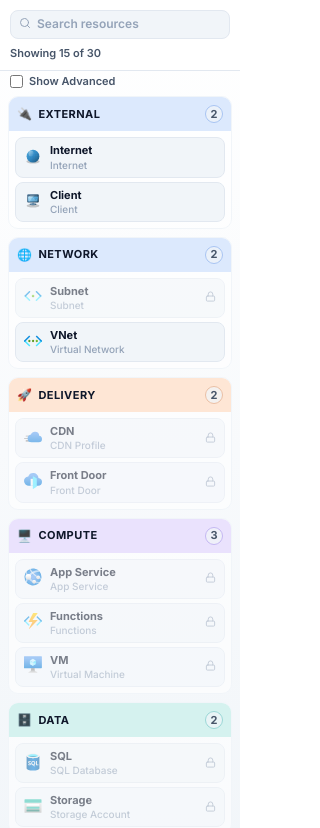
Test case: SidebarPalette › starter/advanced tier toggle › shows all resources when Show Advanced checkbox is checked
Click the checkbox at (16, 82), box [10,75,23,88]
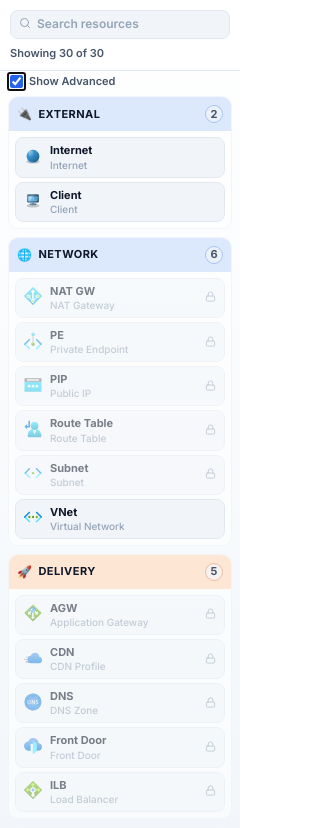
expect the text "Showing 30 of 30" is shown: met, box [10,46,104,60]
